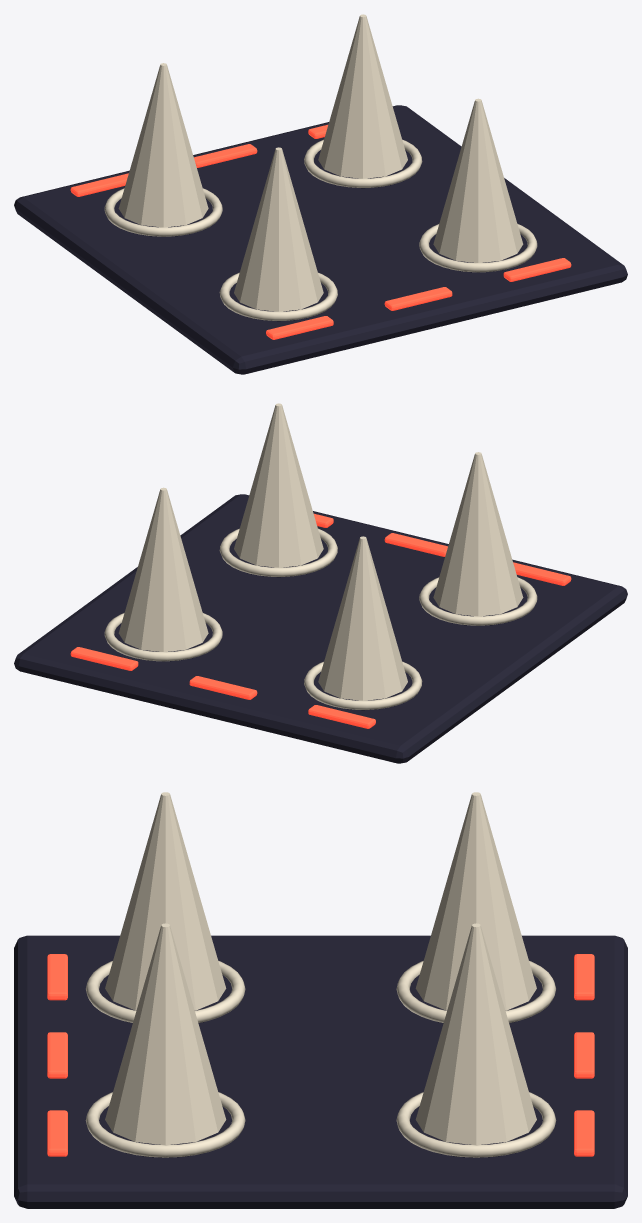
The model's file is trap-spikes-raised.glb.
3 renders of one model, top to bottom at view 1: azimuth 30°, elevation 25°; view 2: azimuth 150°, elevation 25°; view 3: azimuth 270°, elevation 25°, orthographic. The views are drawn at different scales.
Visible parts, largest first — view 1: socket-plate, spike-(-0.21, 0.21), spike-(-0.21, -0.21), spike-(0.21, 0.21), spike-(0.21, -0.21), socket-rim, socket-rim.002, socket-rim.001, socket-rim.003, state-strip.001, state-strip.002, state-strip (+2 smaller); view 2: socket-plate, spike-(-0.21, -0.21), spike-(-0.21, 0.21), spike-(0.21, -0.21), spike-(0.21, 0.21), socket-rim.001, socket-rim.003, socket-rim, socket-rim.002, state-strip.004, state-strip.005, state-strip.003 (+2 smaller); view 3: socket-plate, spike-(0.21, -0.21), spike-(0.21, 0.21), spike-(-0.21, -0.21), spike-(-0.21, 0.21), socket-rim.002, socket-rim.003, socket-rim, socket-rim.001, state-strip.001, state-strip.004, state-strip (+3 smaller).
Part boxes in pixels (bbox=[...]): socket-plate: bbox=[14, 105, 627, 374]; spike-(-0.21, 0.21): bbox=[118, 63, 208, 227]; spike-(-0.21, -0.21): bbox=[234, 147, 323, 311]; spike-(0.21, 0.21): bbox=[318, 14, 407, 178]; spike-(0.21, -0.21): bbox=[433, 98, 523, 262]; socket-rim: bbox=[219, 272, 337, 320]; socket-rim.002: bbox=[419, 224, 537, 272]; socket-rim.001: bbox=[104, 188, 222, 236]; socket-rim.003: bbox=[304, 139, 422, 187]; state-strip.001: bbox=[384, 287, 452, 310]; state-strip.002: bbox=[503, 258, 571, 281]; state-strip: bbox=[266, 316, 333, 339]; socket-plate: bbox=[14, 494, 627, 763]; spike-(-0.21, -0.21): bbox=[433, 452, 523, 616]; spike-(-0.21, 0.21): bbox=[318, 536, 407, 700]; spike-(0.21, -0.21): bbox=[234, 403, 323, 567]; spike-(0.21, 0.21): bbox=[118, 487, 208, 651]; socket-rim.001: bbox=[304, 661, 422, 709]; socket-rim.003: bbox=[104, 613, 222, 661]; socket-rim: bbox=[419, 577, 537, 625]; socket-rim.002: bbox=[219, 528, 337, 576]; state-strip.004: bbox=[189, 676, 257, 699]; state-strip.005: bbox=[70, 647, 138, 670]; state-strip.003: bbox=[308, 705, 375, 728]; socket-plate: bbox=[14, 935, 627, 1208]; spike-(0.21, -0.21): bbox=[105, 923, 226, 1144]; spike-(0.21, 0.21): bbox=[415, 923, 536, 1144]; spike-(-0.21, -0.21): bbox=[105, 792, 226, 1010]; spike-(-0.21, 0.21): bbox=[415, 792, 536, 1010]; socket-rim.002: bbox=[85, 1092, 245, 1157]; socket-rim.003: bbox=[396, 1092, 556, 1157]; socket-rim: bbox=[86, 961, 245, 1022]; socket-rim.001: bbox=[396, 961, 555, 1022]; state-strip.001: bbox=[47, 1032, 67, 1078]; state-strip.004: bbox=[574, 1032, 594, 1078]; state-strip: bbox=[47, 954, 67, 1000].
Size of the model in its own units: 0.83 by 0.335 by 0.83.
